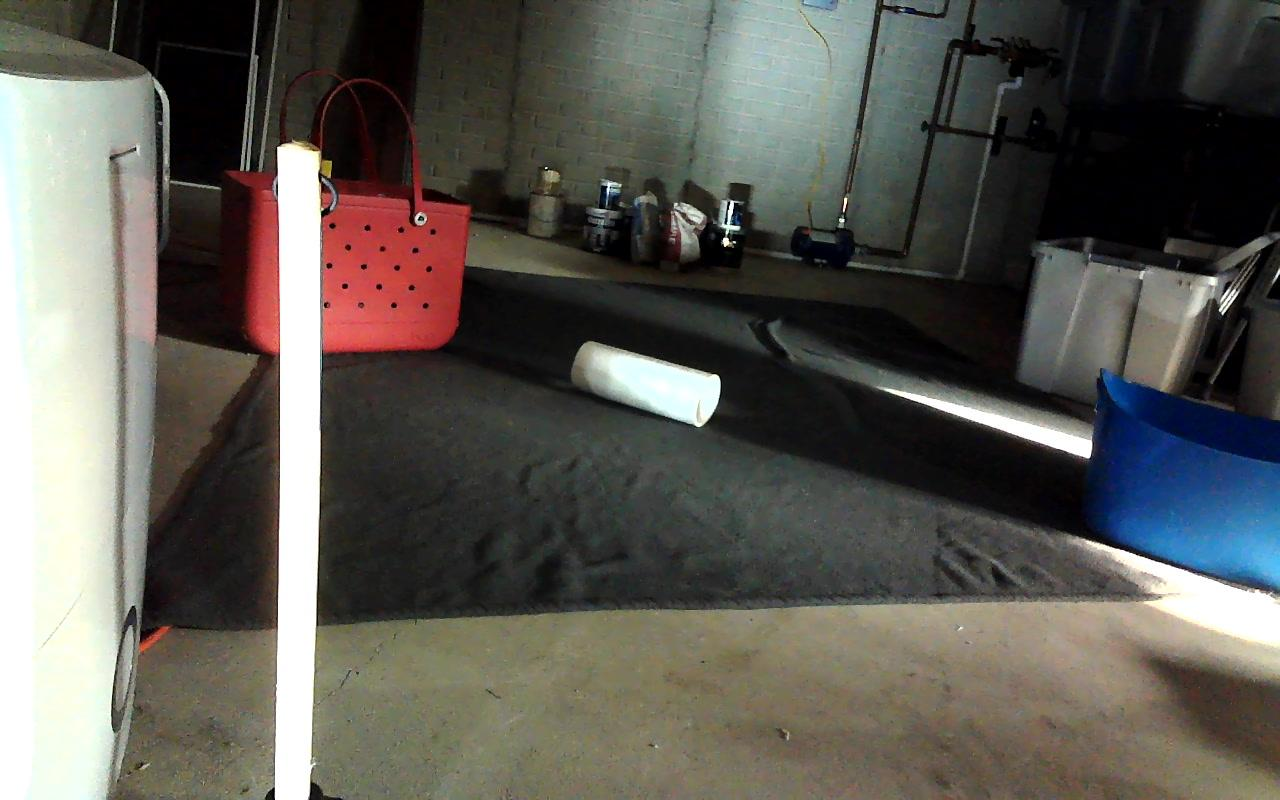coral: (572, 342, 721, 428)
